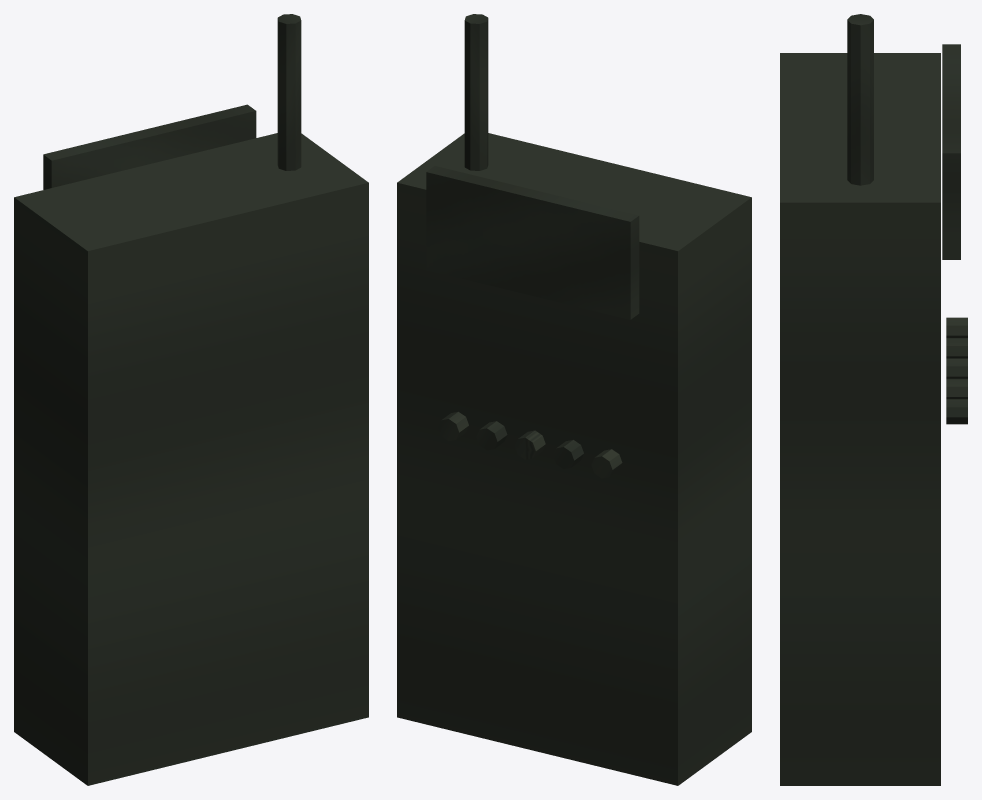
Rendered from prop_alarm_panel_a.glb.
3 renders of one model, left to right at view 1: azimuth 30°, elevation 25°; view 2: azimuth 150°, elevation 25°; view 3: azimuth 270°, elevation 25°, orthographic. The views are drawn at different scales.
Parts seen in each view (by area): view 1: prop_alarm_panel_a; view 2: prop_alarm_panel_a; view 3: prop_alarm_panel_a.
Part boxes in pixels (x1,y1,x2,y2): prop_alarm_panel_a: [14, 14, 368, 785]; prop_alarm_panel_a: [397, 14, 751, 785]; prop_alarm_panel_a: [780, 14, 967, 785].
Bounding box in the file's own units: 0.66 × 1.53 × 0.35.
1 material, 1 textured.
